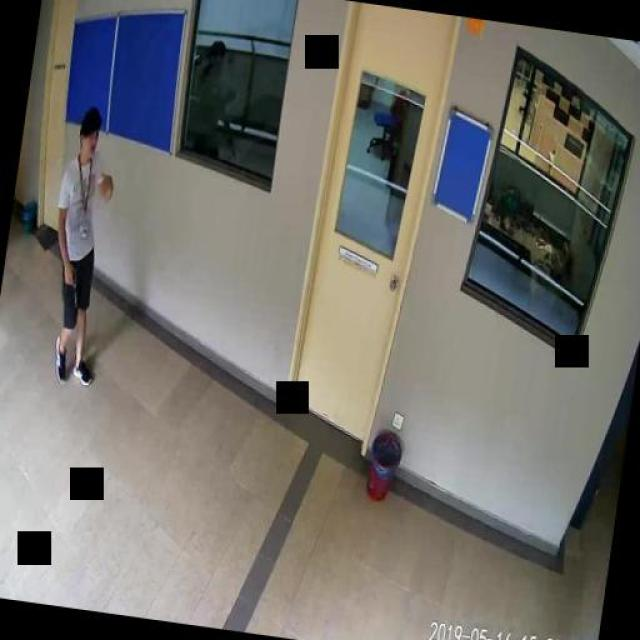gun: (60, 262, 81, 306)
